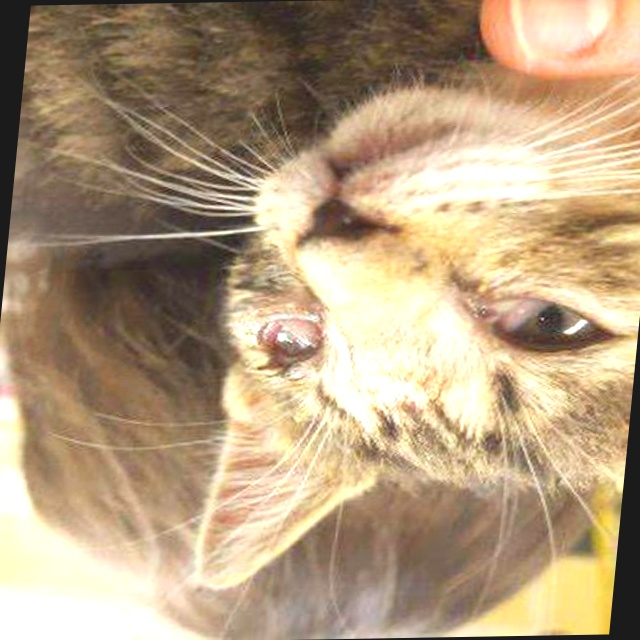eye_infection: (474, 288, 619, 356), (244, 303, 333, 372)
